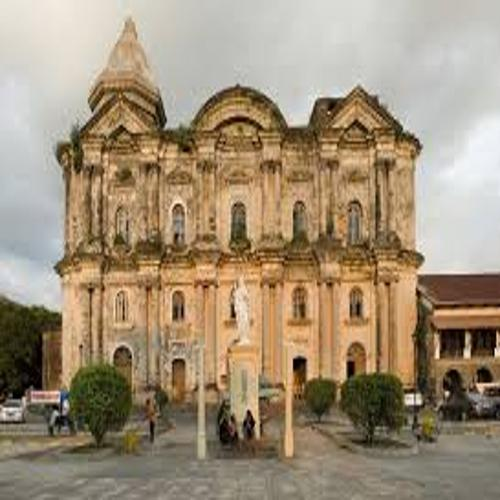Taal Basilica Church: (49, 9, 421, 399)
